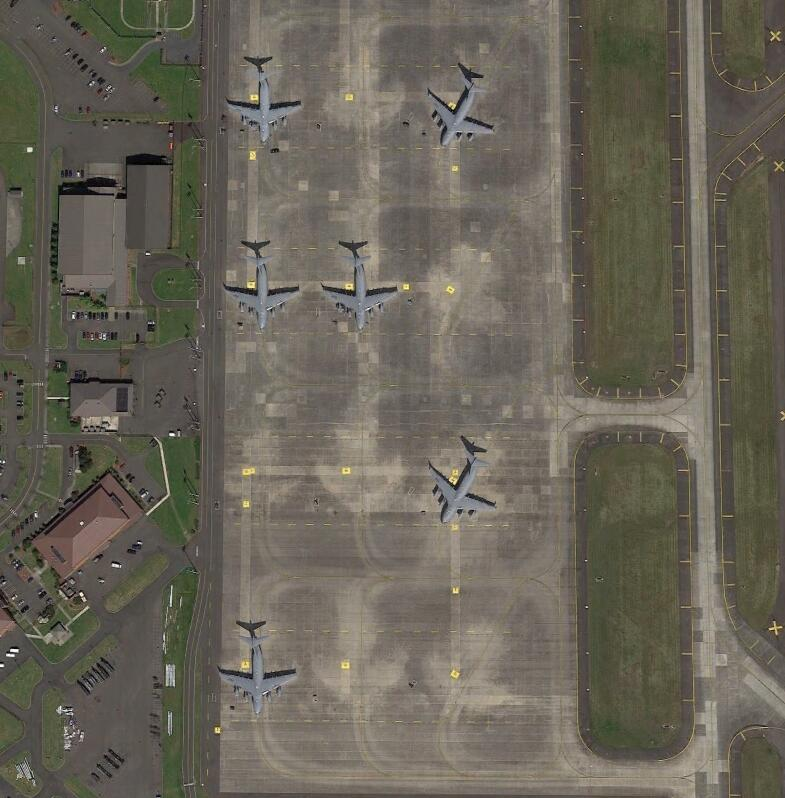A3: (215, 633, 302, 719), (220, 247, 304, 334), (321, 251, 401, 335), (224, 66, 305, 145), (426, 448, 502, 527), (425, 73, 497, 149)
